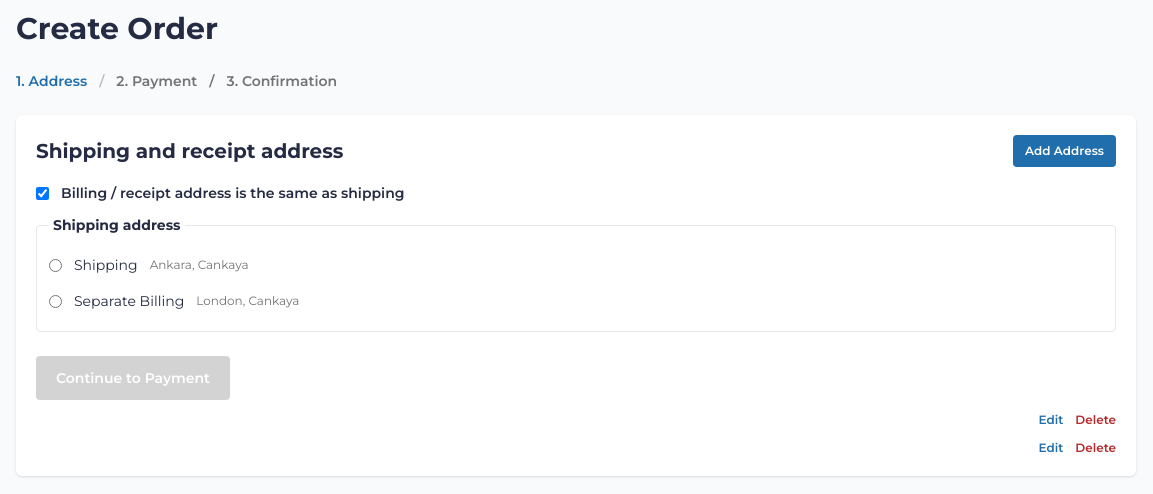
Test case: clears transient CCV and selected payment after a confirmed card delete even when refresh fails
Expected: the text "Billing / receipt address is the same as shipping" is shown, [36,184,404,202]
Click the radio button labelled "Shipping Ankara, Cankaya".
click(56, 265)  # box [49,258,62,272]
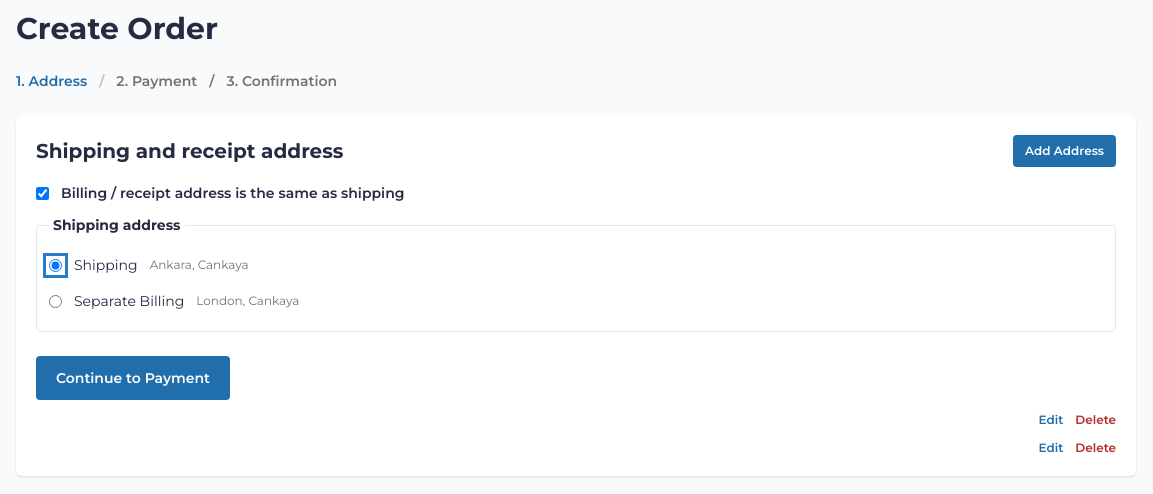
Click the button "Continue to Payment".
click(133, 378)  # box [36,356,230,400]
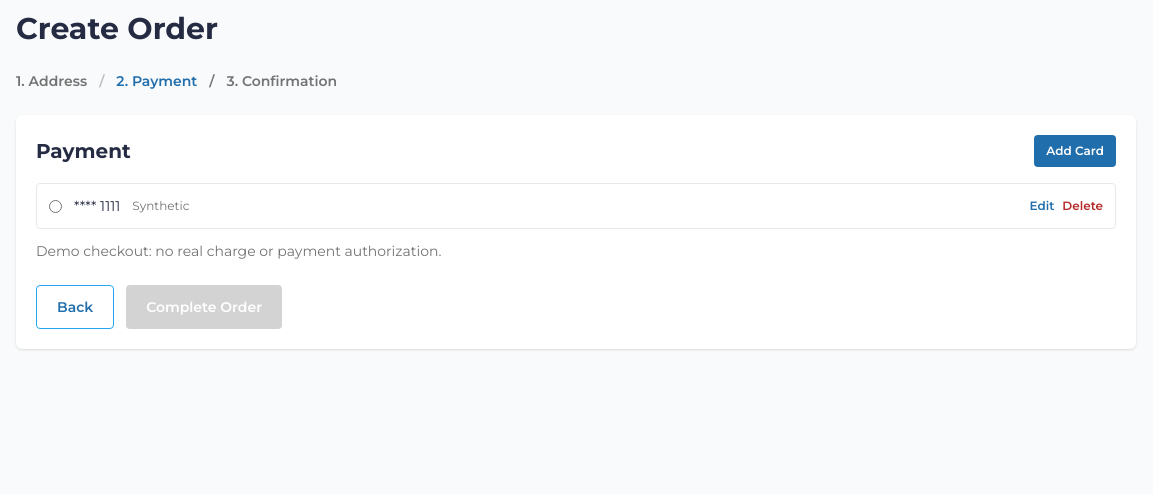
Click the radio button labelled "**** 1111 Synthetic".
click(56, 206)  # box [49,200,62,212]
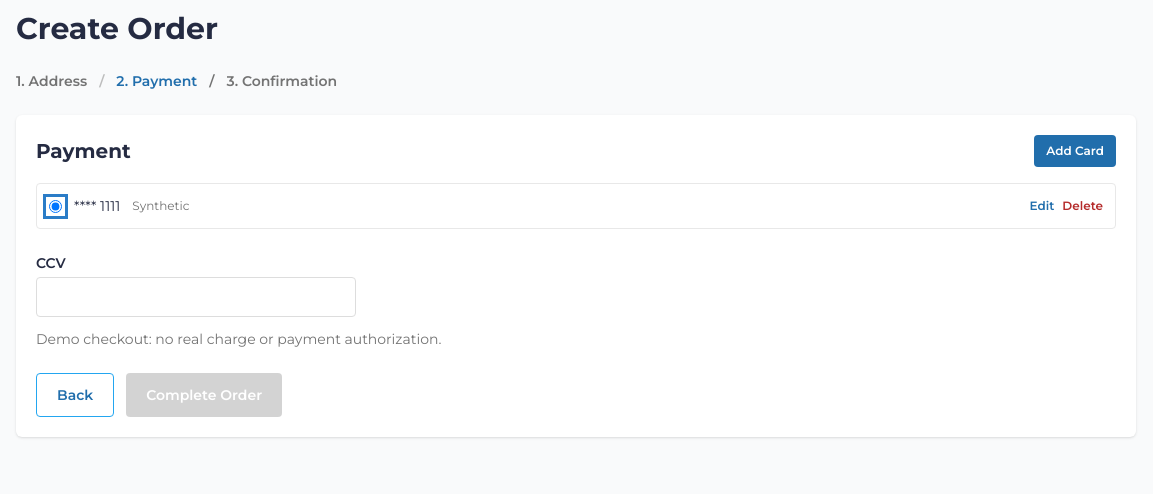
Type "123" into the password field labelled "CCV".
click(196, 297); type("123")  # box [36,277,356,317]
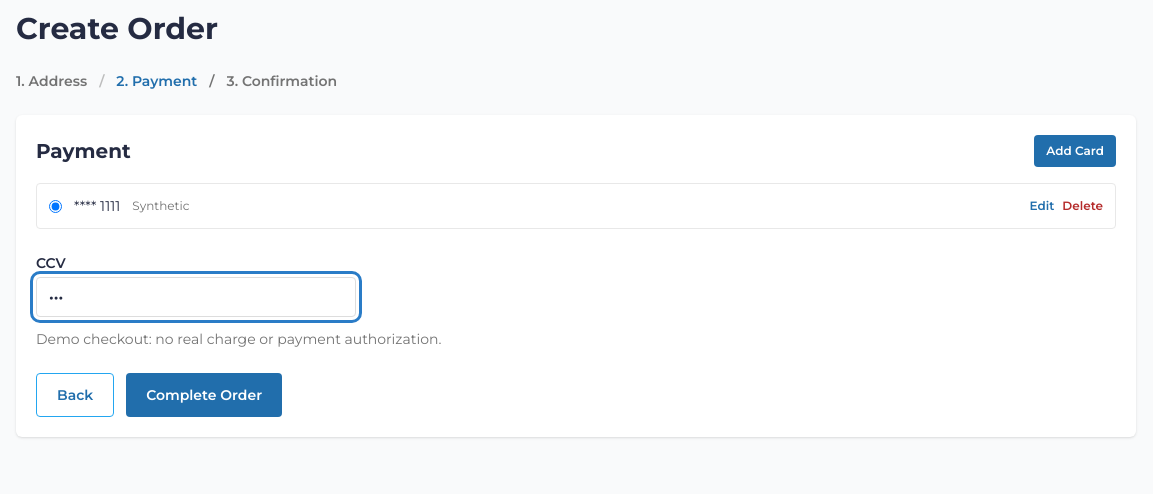
Click the button with aria-label "Delete card ending 1111".
click(1083, 206)  # box [1062,198,1103,214]
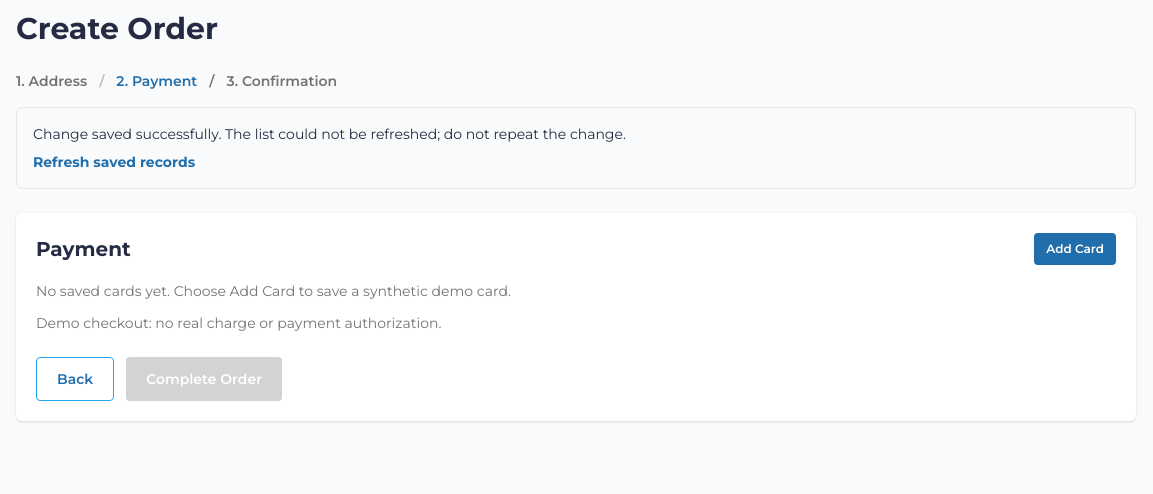
Result: the label labelled "CCV" is gone
Result: the button "Complete Order" is disabled at [126,357,282,401]
Result: the text "Change saved successfully" is shown at [33,125,626,143]
